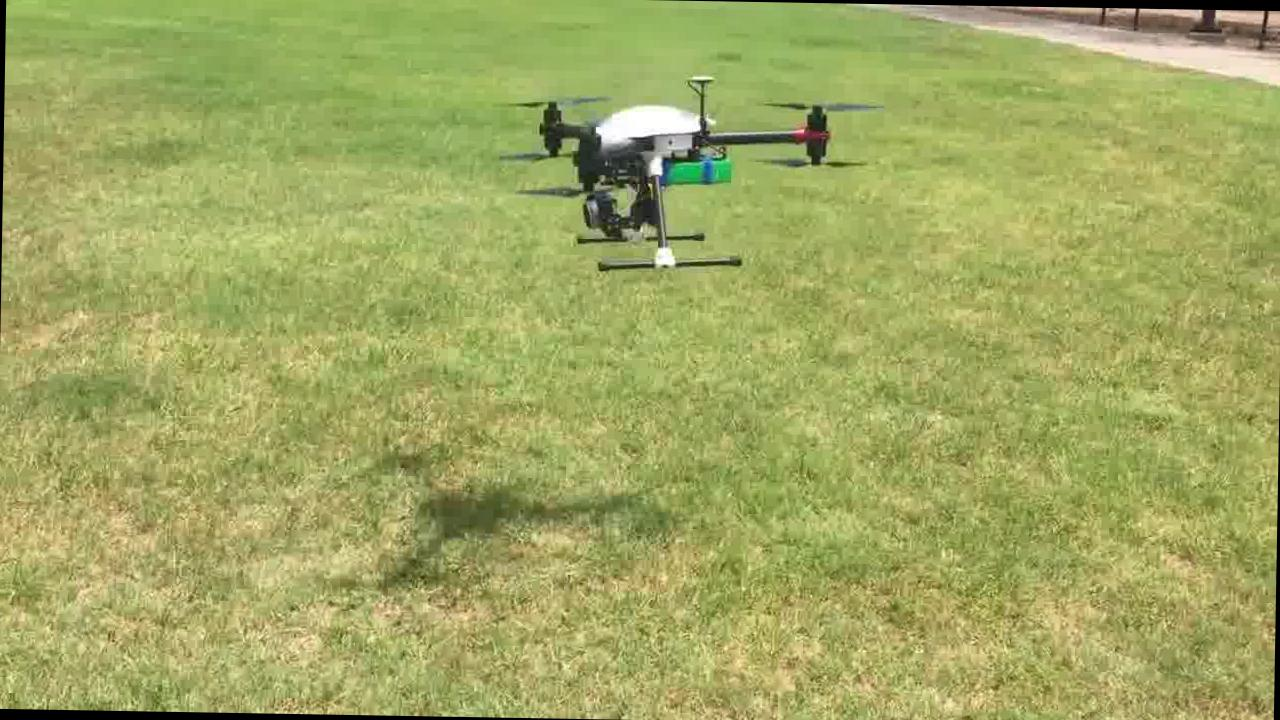drone: (508, 65, 852, 276)
